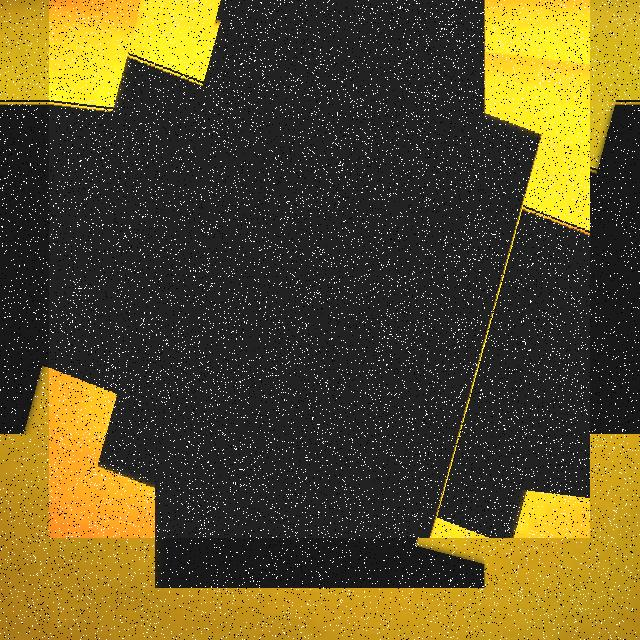lima puluh ribu rupiah: (49, 0, 590, 538)
